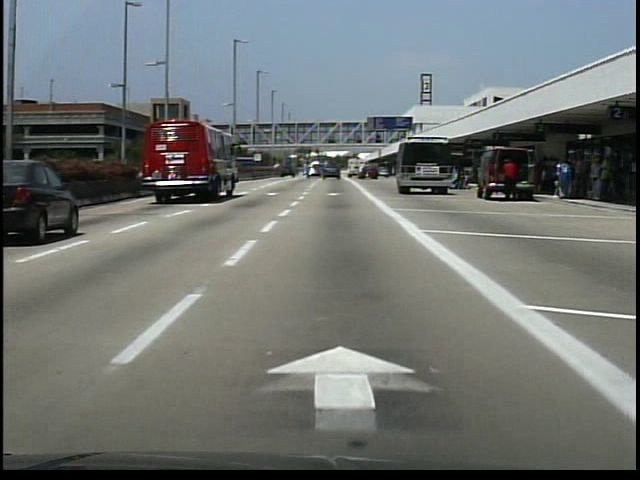person: (500, 156, 520, 207), (448, 168, 469, 194)
